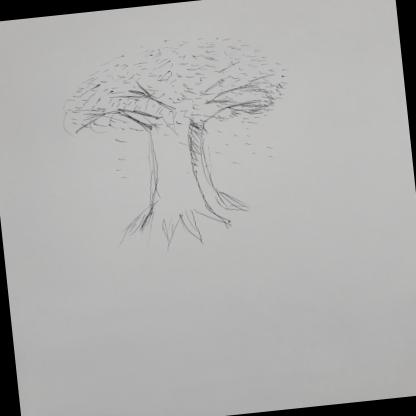branch_line: (75, 61, 270, 142)
root_only: (118, 187, 257, 257)
trunk_bark: (140, 138, 220, 196)
